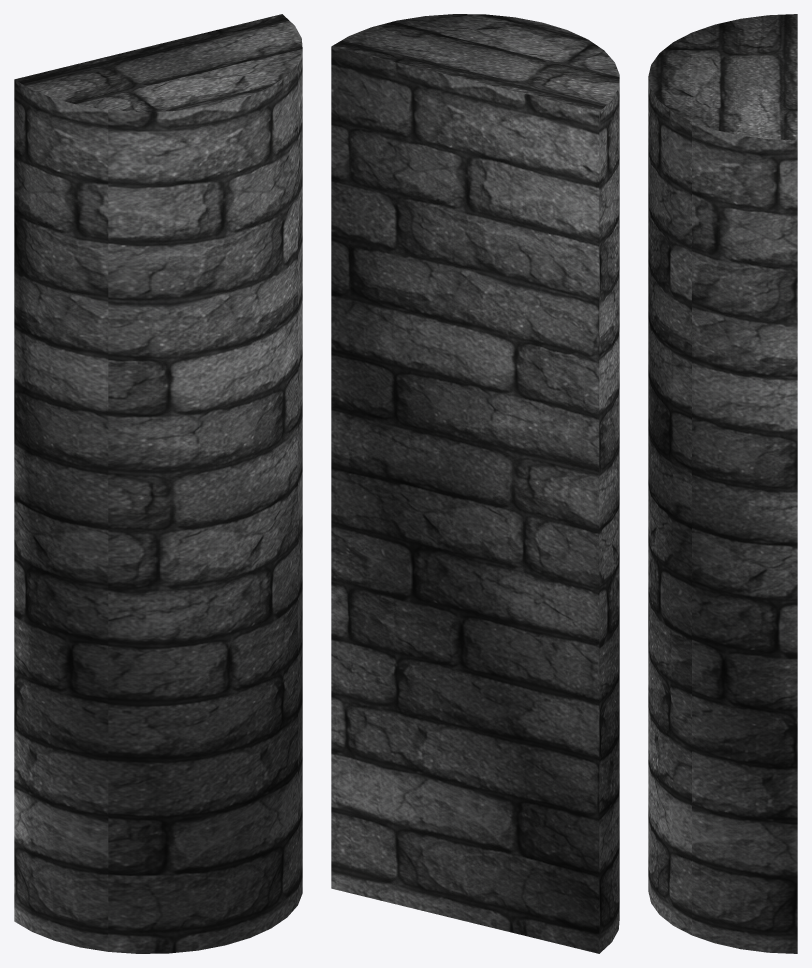
The model's file is stone pillar bent.glb.
3 renders of one model, left to right at view 1: azimuth 30°, elevation 25°; view 2: azimuth 150°, elevation 25°; view 3: azimuth 270°, elevation 25°, orthographic. The views are drawn at different scales.
Visible parts, largest first — view 1: Half Cylinder; view 2: Half Cylinder; view 3: Half Cylinder.
Boxes of the visible parts, bbox=[...] form: Half Cylinder: bbox=[14, 14, 302, 953]; Half Cylinder: bbox=[331, 14, 619, 953]; Half Cylinder: bbox=[648, 14, 797, 953].
Size of the model in its own units: 0.9144 by 2.74 by 0.4572.
Materials: 1 (1 with a texture image).
